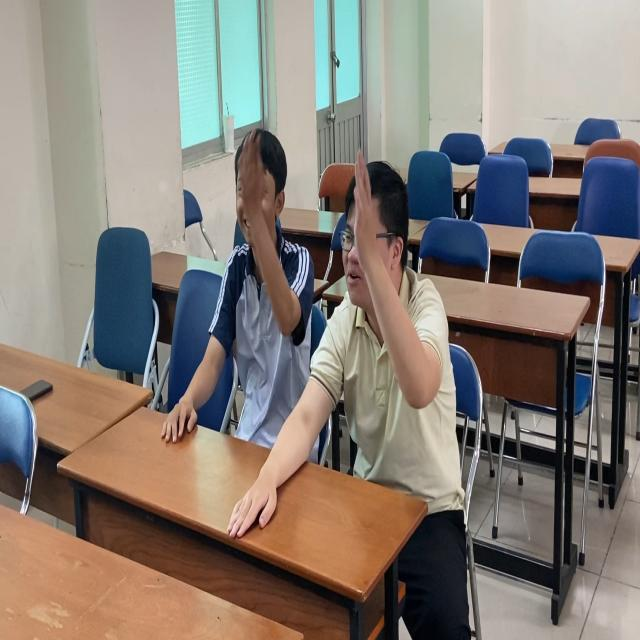raise_hand: (325, 149, 461, 499), (188, 118, 324, 454)
